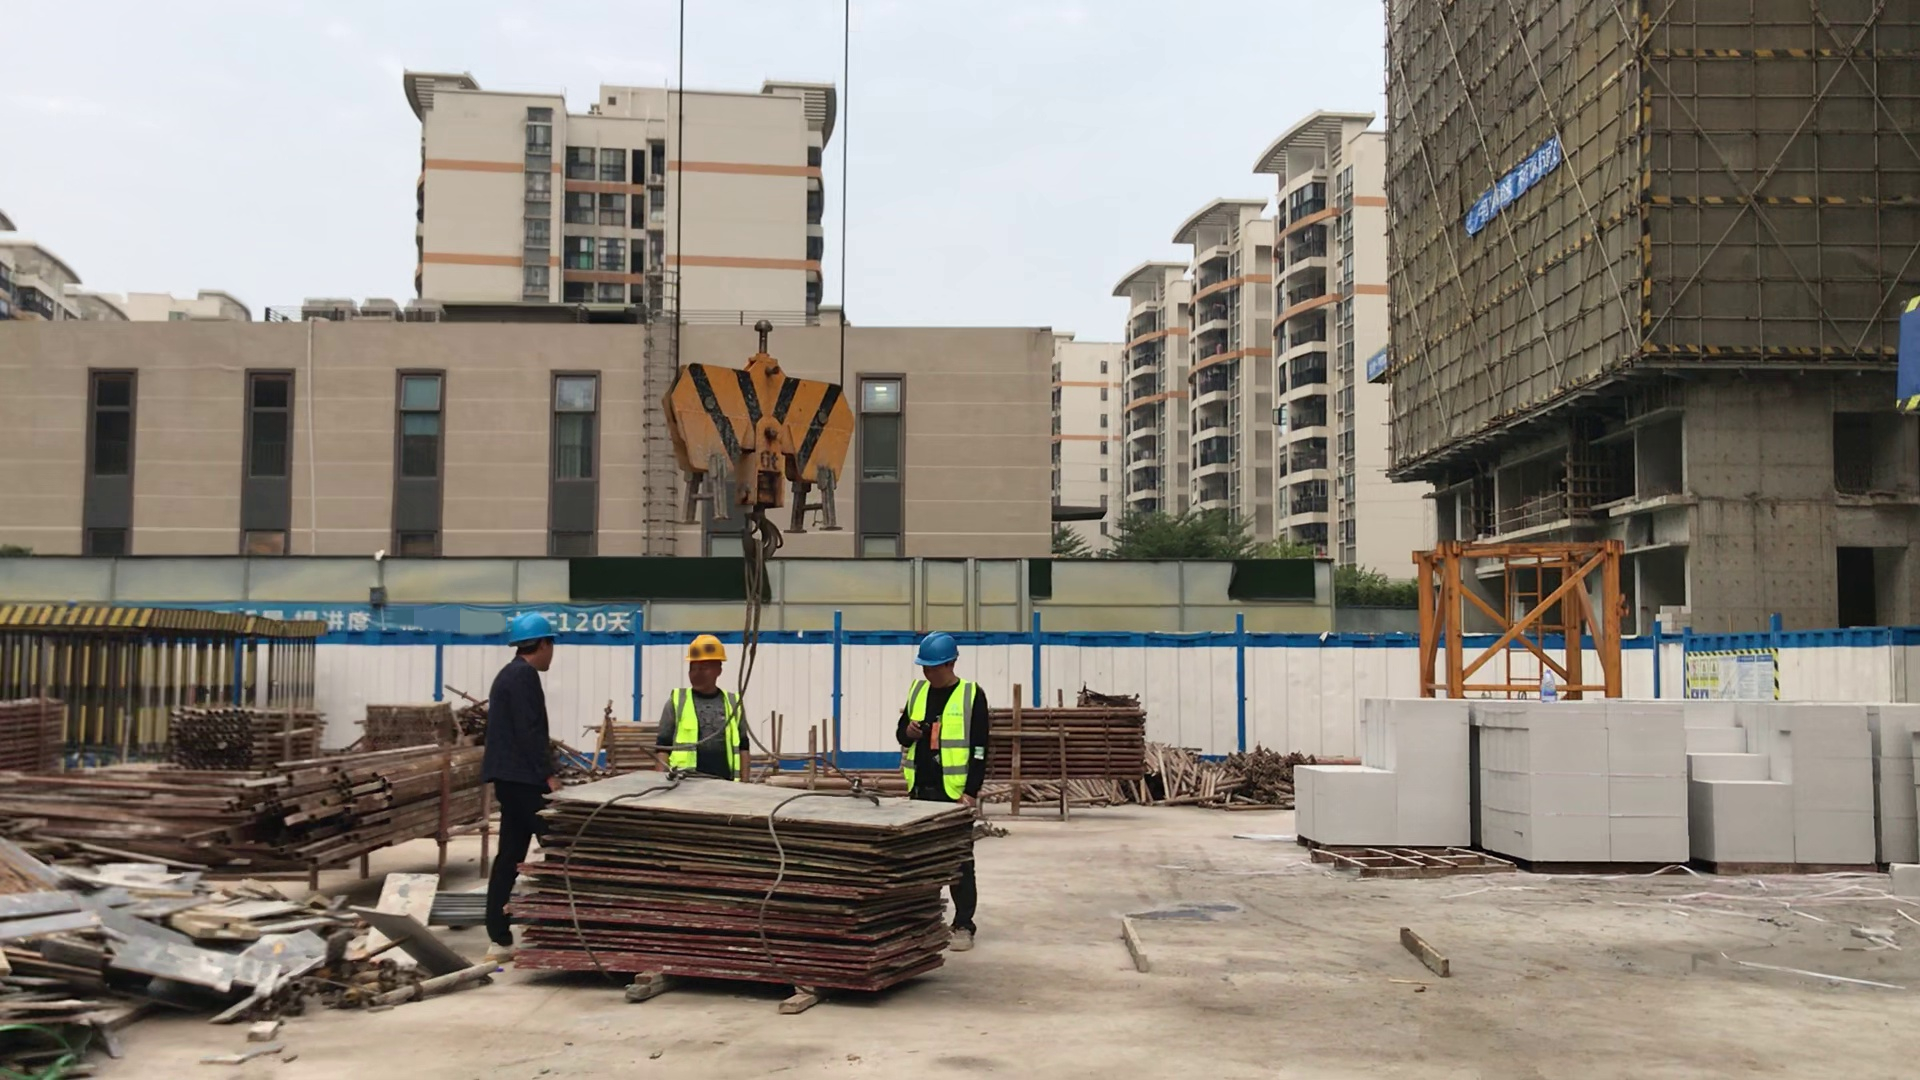board: (525, 776, 969, 1008)
brick: (1289, 690, 1920, 869)
helmet: (911, 632, 961, 668), (507, 613, 553, 644), (682, 633, 724, 662)
hook: (659, 351, 869, 572)
person: (892, 635, 990, 951), (476, 612, 557, 966), (659, 635, 754, 779)
scaffold: (991, 705, 1147, 778), (172, 701, 325, 770), (358, 701, 452, 749), (7, 692, 69, 763), (598, 722, 658, 776)
slogan: (210, 603, 640, 632), (1465, 135, 1558, 247)
vest: (901, 676, 973, 805), (671, 685, 740, 773)
